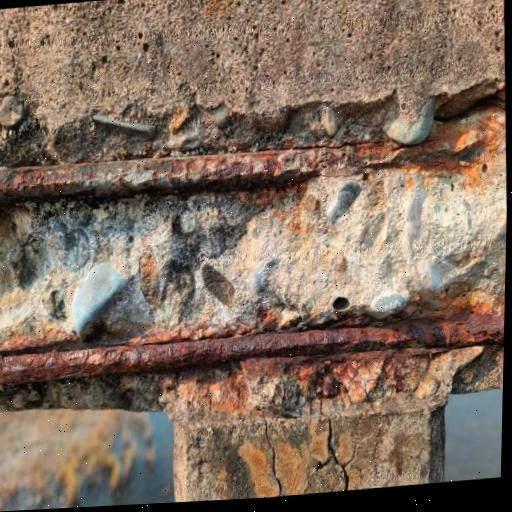exposed_rebar: (0, 108, 505, 206), (0, 313, 504, 384)
spalling: (0, 81, 506, 424)
